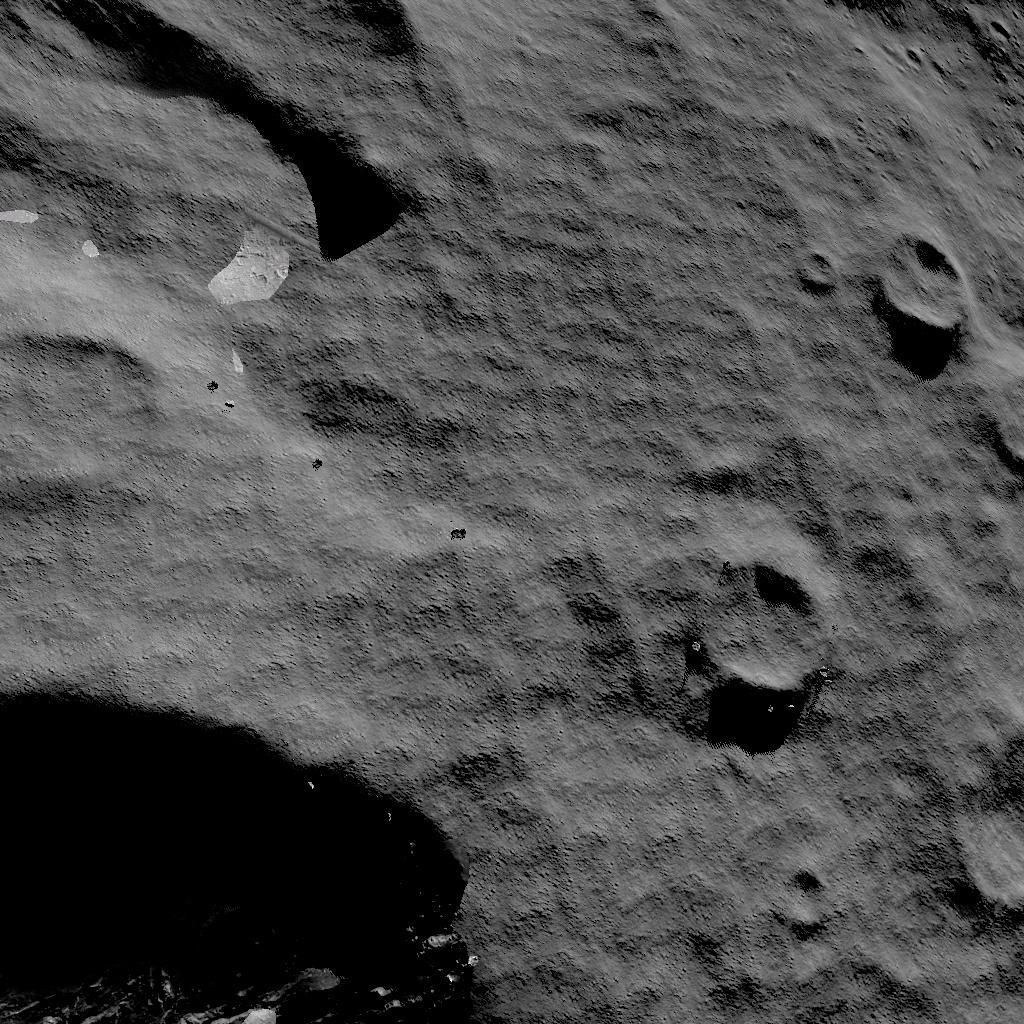Crater: (0, 643, 503, 1024), (0, 0, 411, 272), (0, 316, 167, 514), (679, 551, 841, 708), (924, 702, 1024, 926), (868, 214, 985, 362), (773, 858, 845, 930), (796, 242, 839, 296)
Plan surface: (426, 0, 755, 486), (519, 758, 749, 1024)
